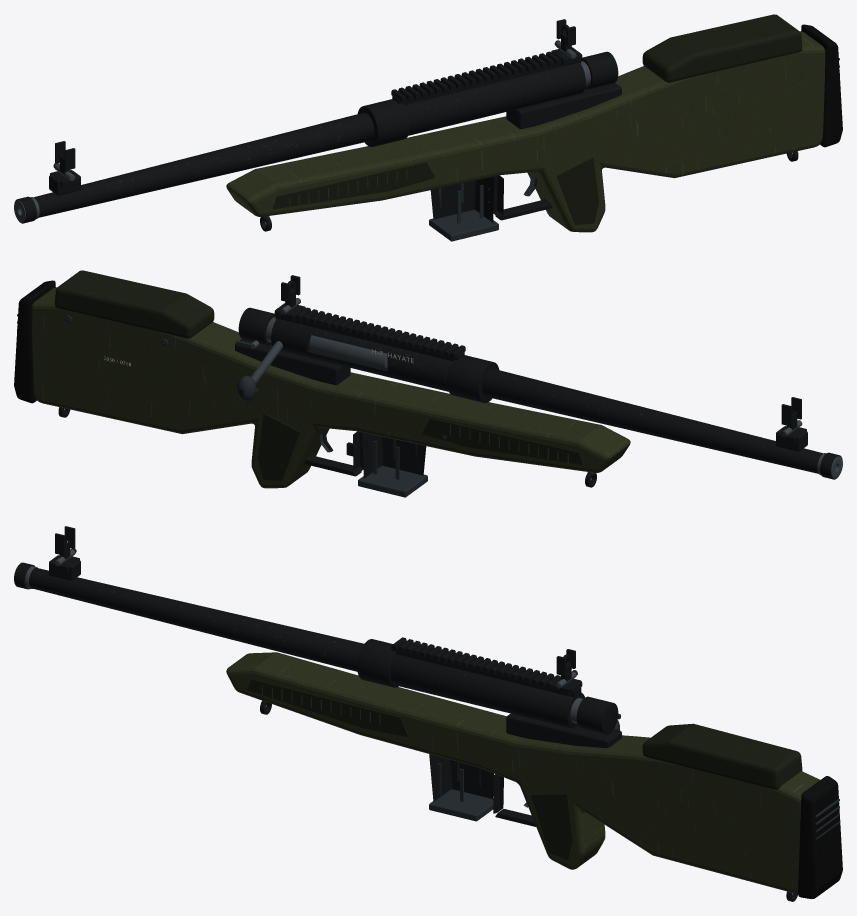
The model's file is hayate_geometry.glb.
3 views of the same model, one above another, from view 1: azimuth 30°, elevation 25°; view 2: azimuth 150°, elevation 25°; view 3: azimuth 330°, elevation 25° (orthographic).
Parts seen in each view (by area): view 1: BodyMesh, MagazineMesh, Iron_BodyMesh, ActionMesh; view 2: BodyMesh, MagazineMesh, ActionMesh, Iron_BodyMesh; view 3: BodyMesh, MagazineMesh, ActionMesh, Iron_BodyMesh.
Part boxes in pixels (<box>): BodyMesh: <box>14,14,842,232</box>; MagazineMesh: <box>429,176,498,241</box>; Iron_BodyMesh: <box>53,19,576,180</box>; ActionMesh: <box>581,51,618,89</box>; BodyMesh: <box>14,270,842,488</box>; MagazineMesh: <box>358,432,427,497</box>; ActionMesh: <box>237,307,387,401</box>; Iron_BodyMesh: <box>279,275,802,437</box>; BodyMesh: <box>14,555,842,901</box>; MagazineMesh: <box>429,754,493,821</box>; ActionMesh: <box>570,696,619,734</box>; Iron_BodyMesh: <box>54,526,577,688</box>.
Size of the model in its own units: 1.16 by 0.2799 by 0.1167.
8 materials, 5 textured.
